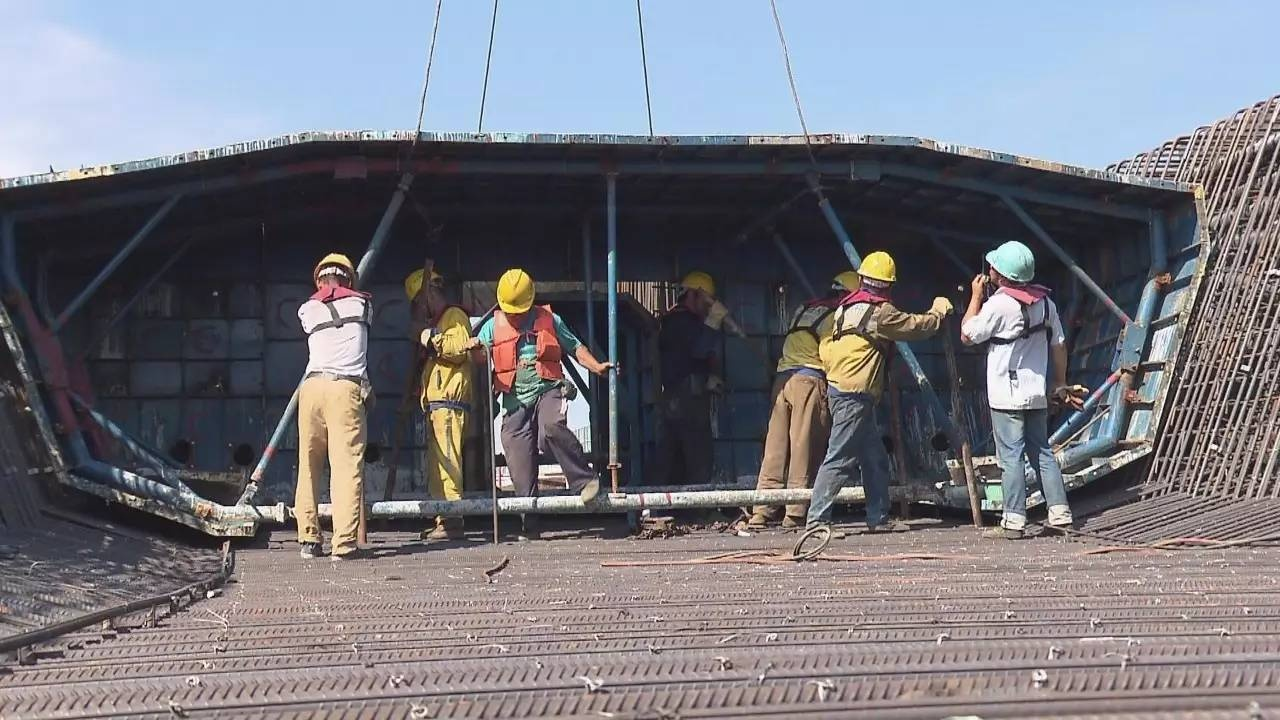blue: (985, 237, 1033, 289)
yellow: (493, 267, 536, 320), (856, 248, 897, 295), (311, 251, 355, 290), (403, 268, 441, 310), (680, 270, 715, 313), (829, 268, 860, 305)
